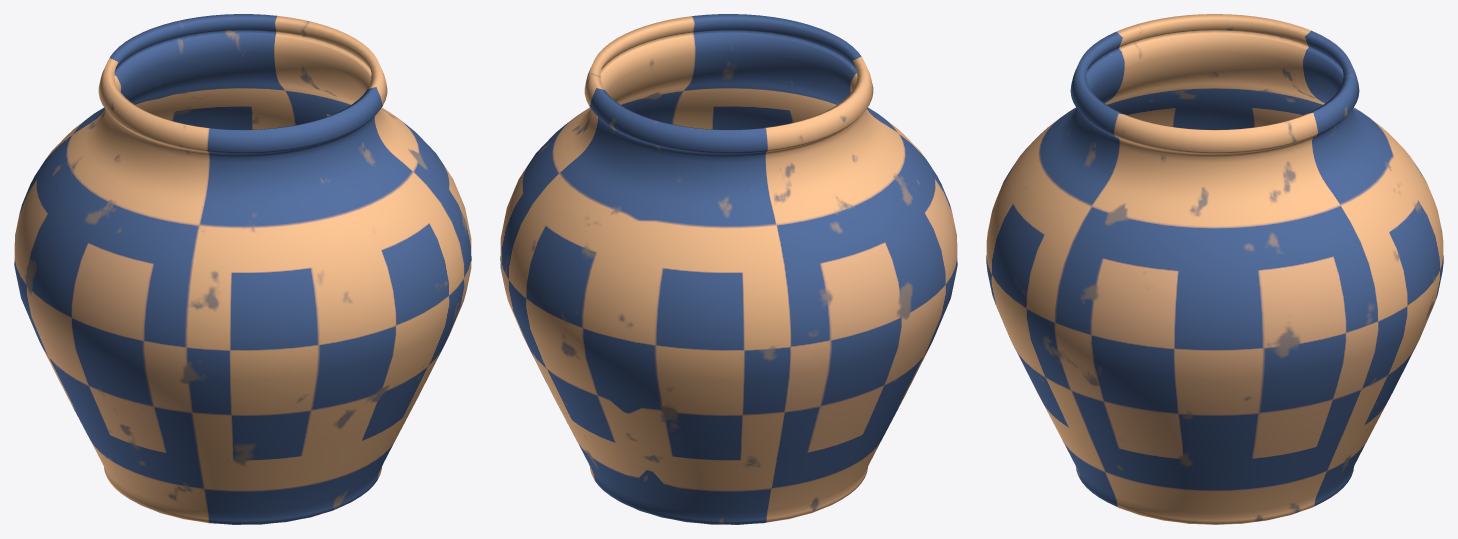
File: Vase3.gltf
The picture shows the model from 3 angles, left to right: view 1: azimuth 30°, elevation 25°; view 2: azimuth 150°, elevation 25°; view 3: azimuth 270°, elevation 25°; orthographic projection.
Visible parts, largest first — view 1: Vase v3; view 2: Vase v3; view 3: Vase v3.
Part boxes in pixels (x1,y1,x2,y2): Vase v3: [14, 14, 471, 524]; Vase v3: [500, 14, 957, 524]; Vase v3: [986, 14, 1443, 524].
Bounding box in the file's own units: 0.7358 × 0.7076 × 0.7358.
1 material, 1 textured.
